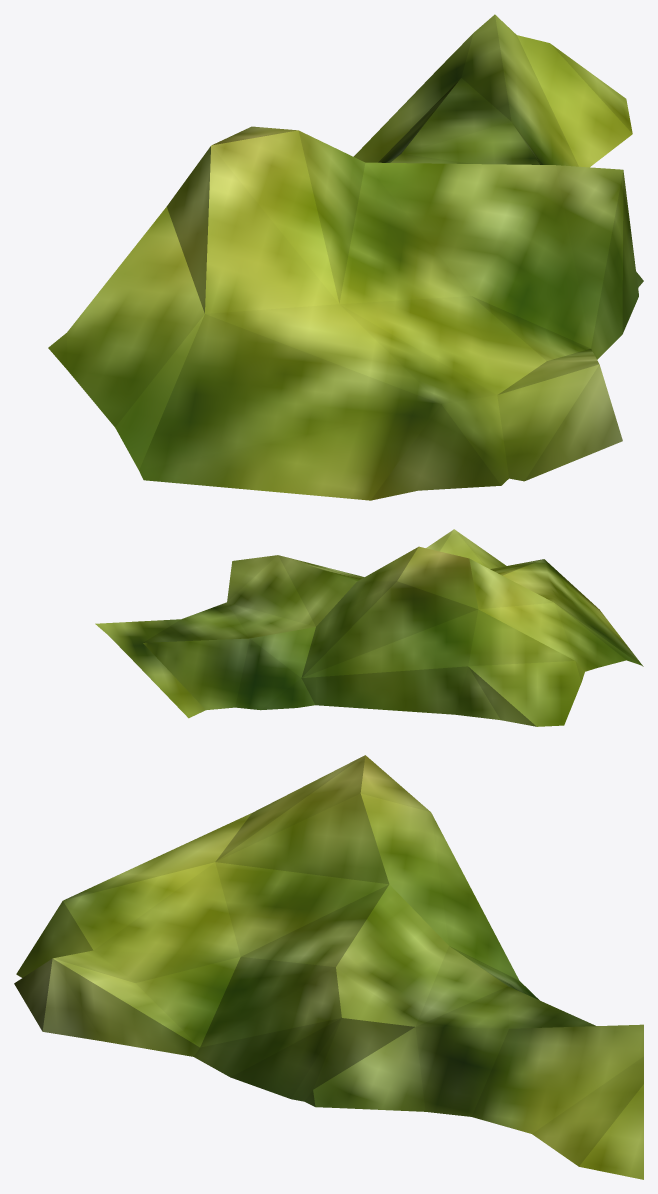
3 renders of one model, top to bottom at view 1: azimuth 30°, elevation 25°; view 2: azimuth 150°, elevation 25°; view 3: azimuth 270°, elevation 25°, orthographic. The views are drawn at different scales.
Bounding box in the file's own units: 0.6239 × 0.1685 × 0.5261.
Materials: 1 (1 with a texture image).
